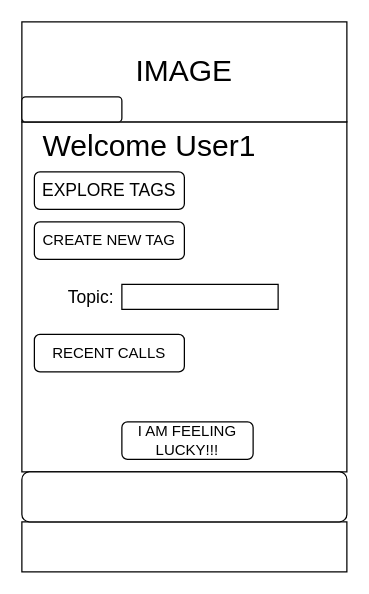
This 369x594 diagram has some shape labels left out. Here are the shapes that lost their labels. From the top down, the centre of each, then its label:
At point 71,109: "LOGO".
At point 184,496: "About us".
At point 184,546: "All rights reserved 2021.".
